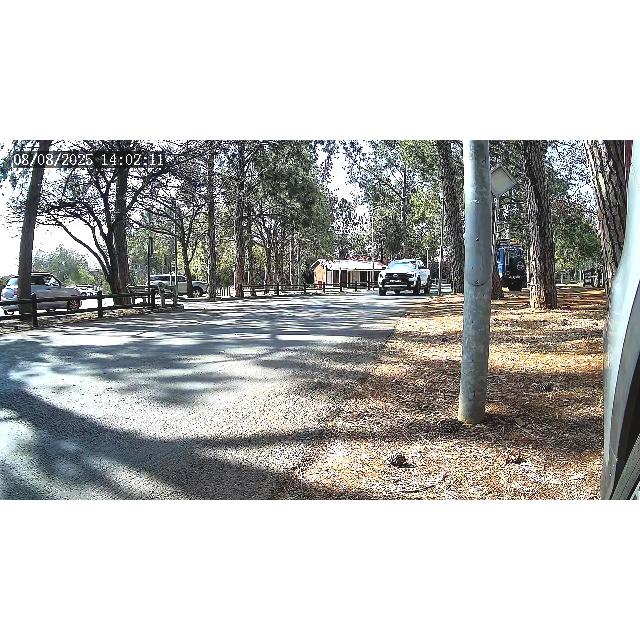car: (0, 271, 84, 317), (378, 260, 426, 296)
